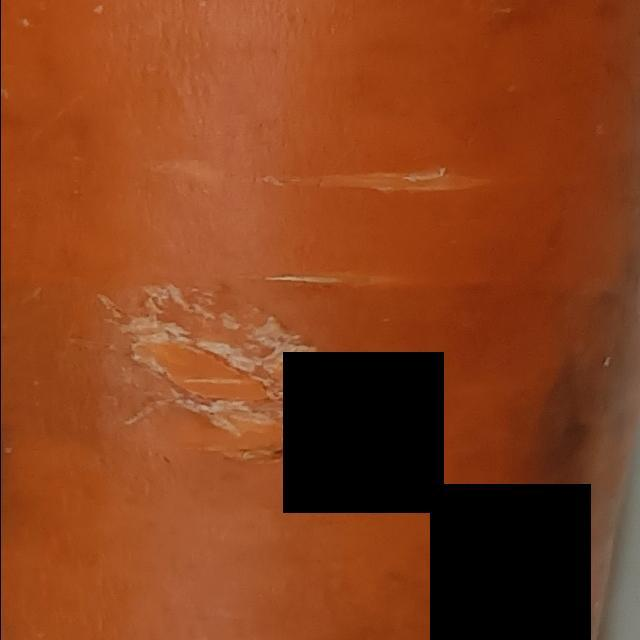carrot: (1, 1, 640, 640)
